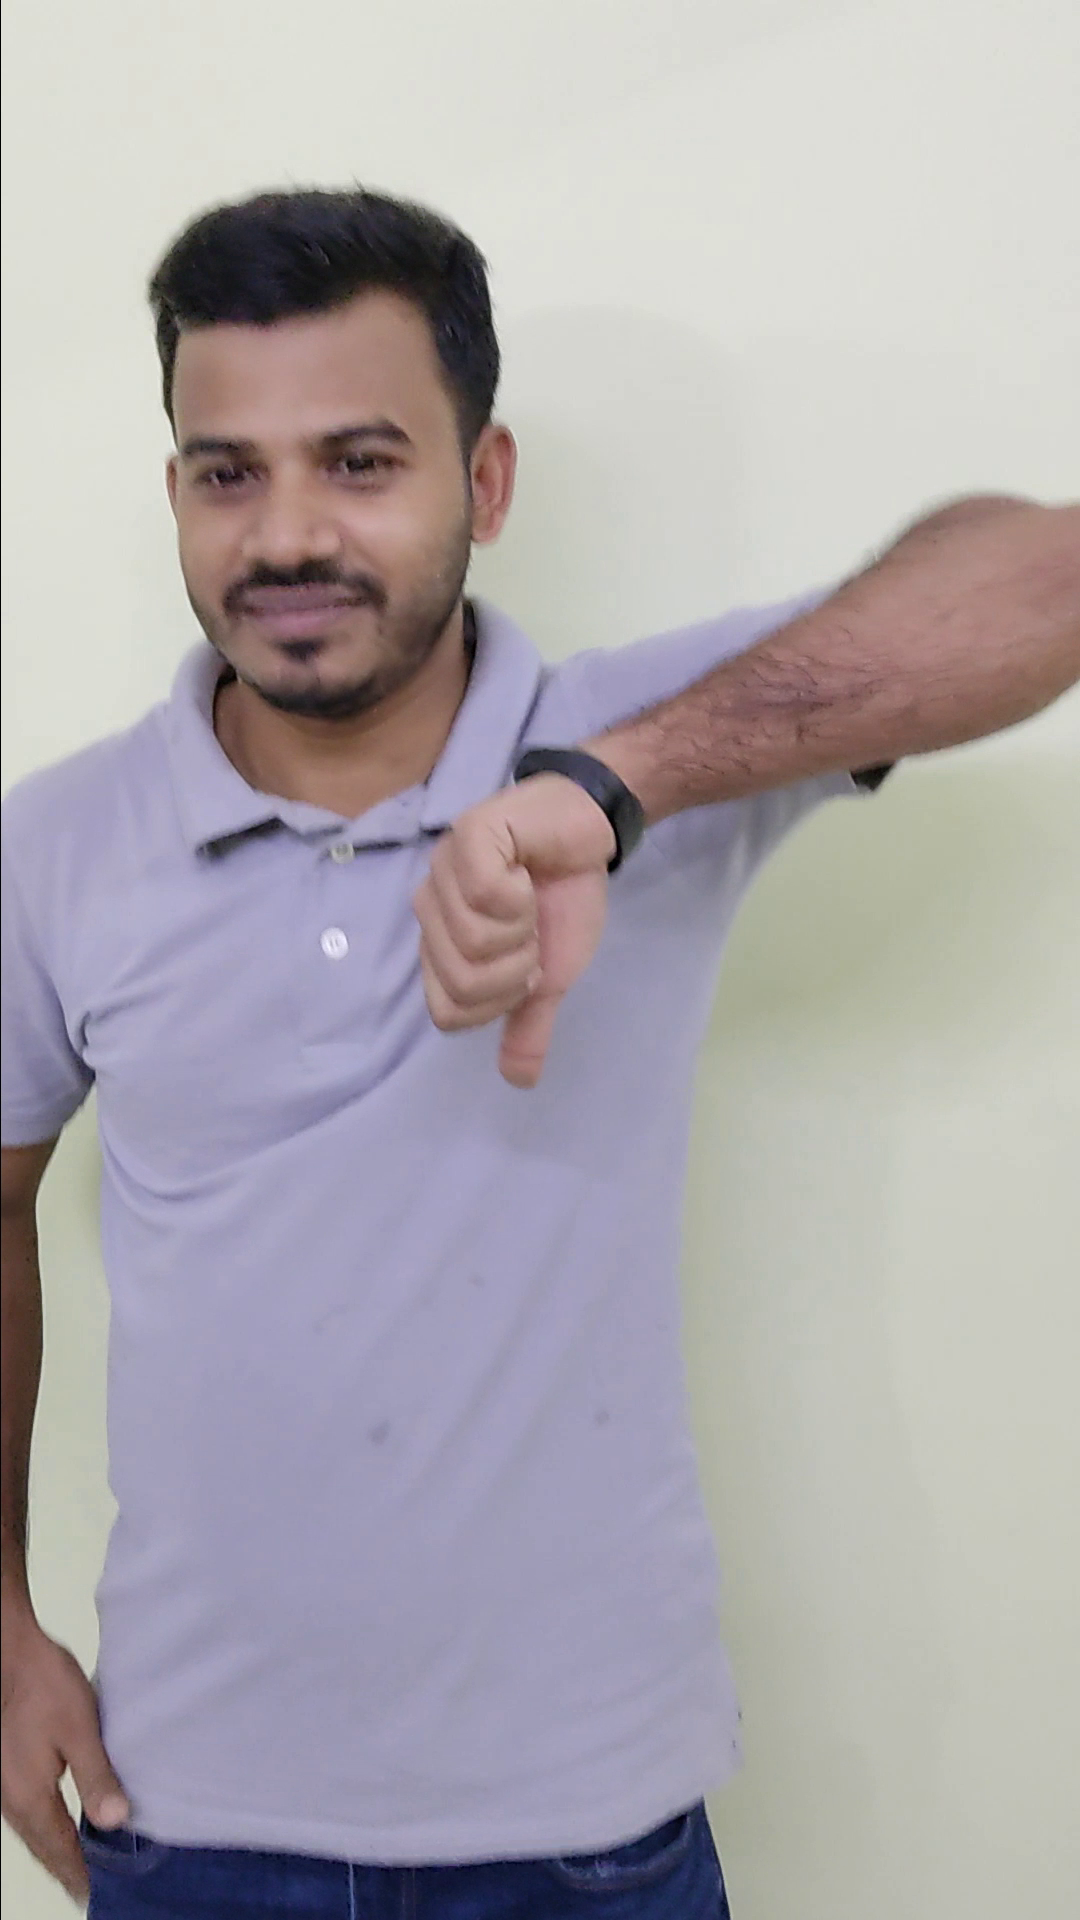Dislike: (401, 738, 638, 1102)
None: (1, 1589, 150, 1920)
